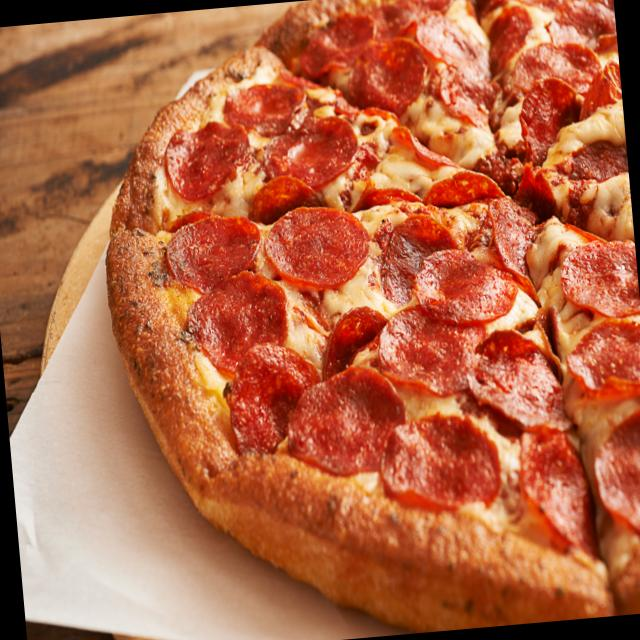pepperoni: (280, 358, 410, 478), (376, 404, 502, 514), (186, 265, 293, 392), (374, 296, 494, 406), (220, 339, 324, 464), (464, 326, 570, 440), (264, 192, 376, 298), (514, 419, 598, 556), (163, 203, 266, 304), (412, 240, 519, 326), (264, 110, 359, 194), (161, 116, 253, 202), (342, 34, 428, 124), (422, 15, 498, 116), (558, 231, 640, 323), (379, 208, 459, 300), (223, 73, 310, 154), (314, 297, 392, 387), (289, 8, 380, 82), (592, 401, 640, 539), (506, 30, 600, 100), (568, 308, 640, 399), (520, 71, 584, 159), (492, 192, 543, 294), (422, 164, 500, 218), (479, 7, 534, 78), (390, 119, 454, 170), (579, 58, 622, 118), (534, 303, 566, 376), (534, 0, 610, 27)
pizza: (101, 0, 640, 634)
